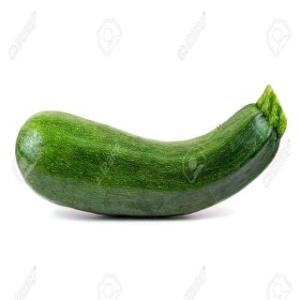zucchini: (10, 61, 300, 217)
